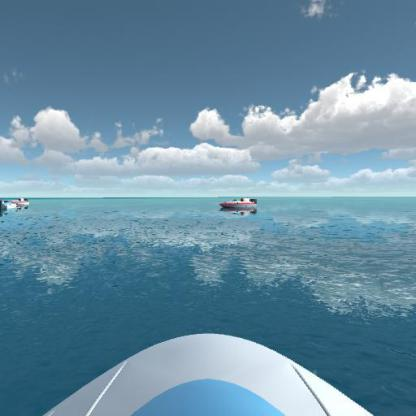usv1: (0, 195, 18, 215)
usv3: (218, 194, 260, 218), (11, 194, 32, 210)
